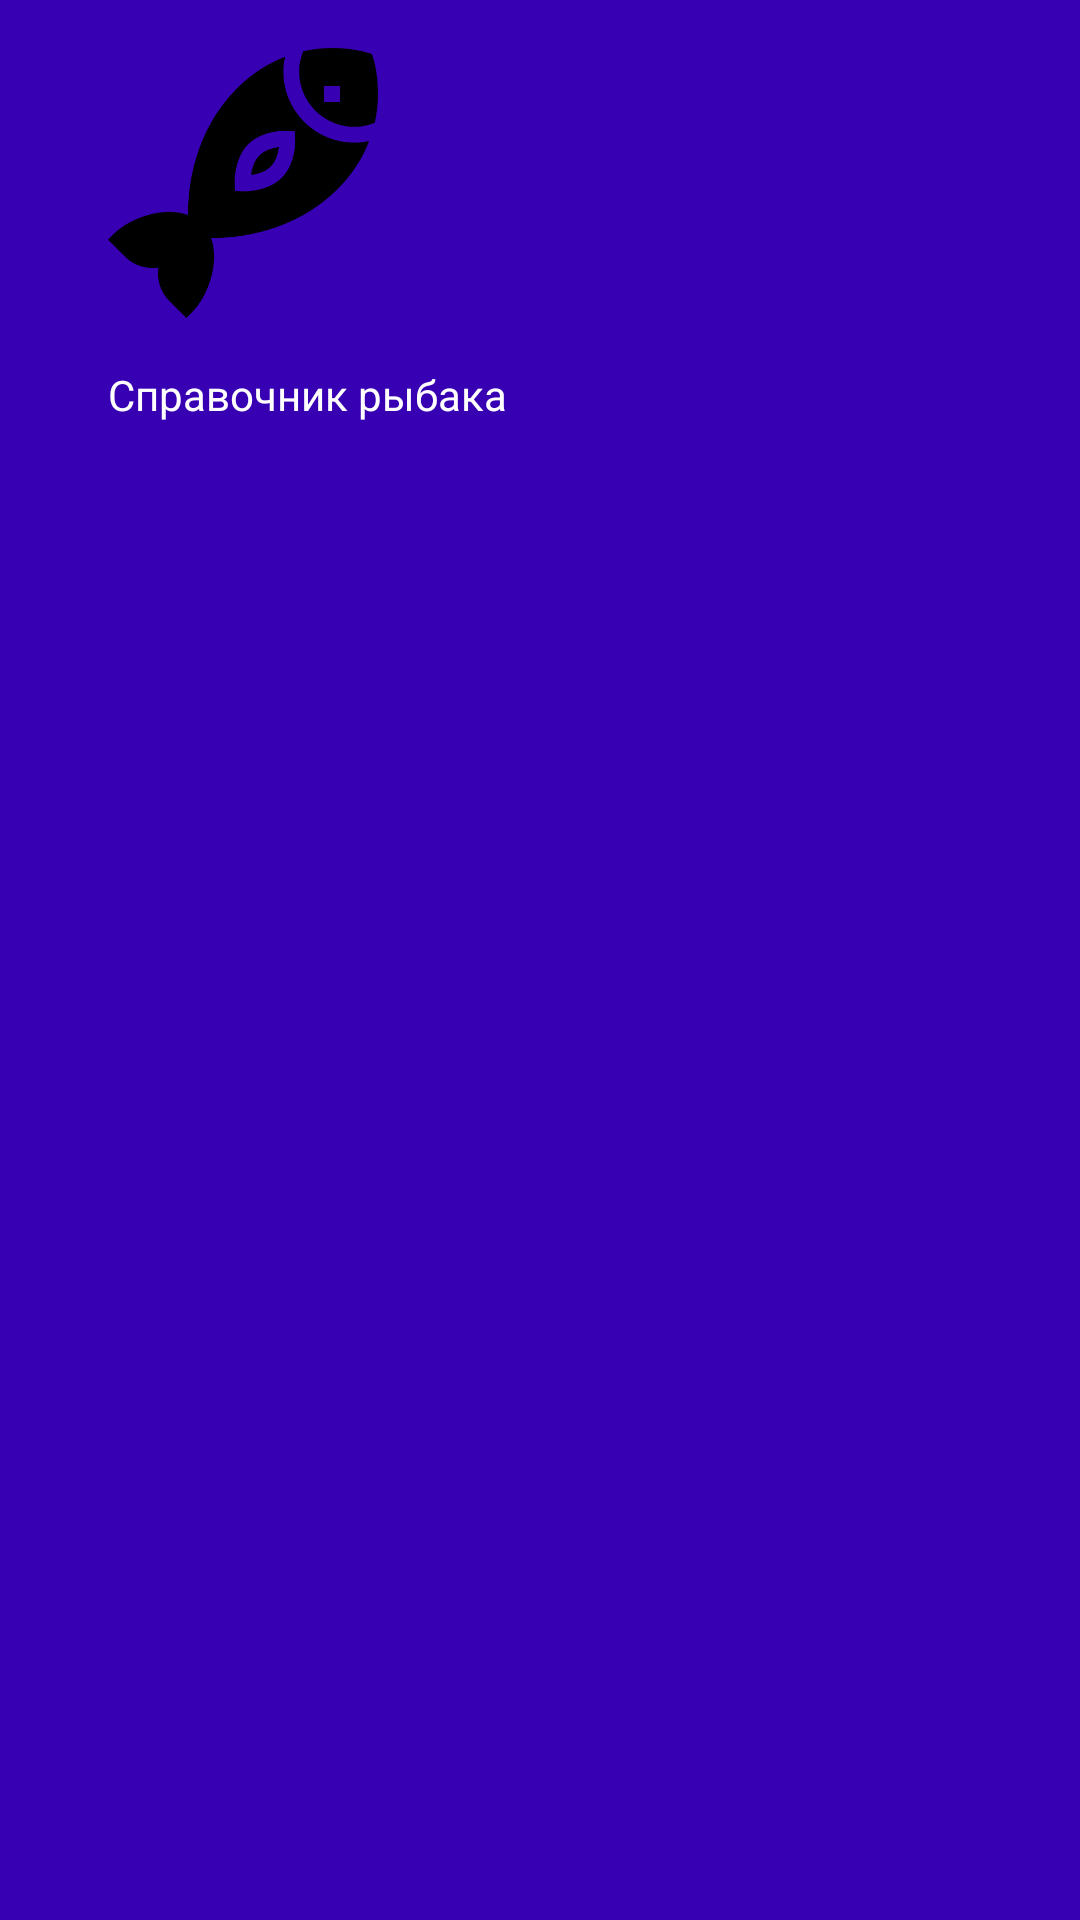

Where icons sit on this 1080×1920 app screen, as (x1, y1, x2, y2):
fishheader: (108, 48, 378, 318)
